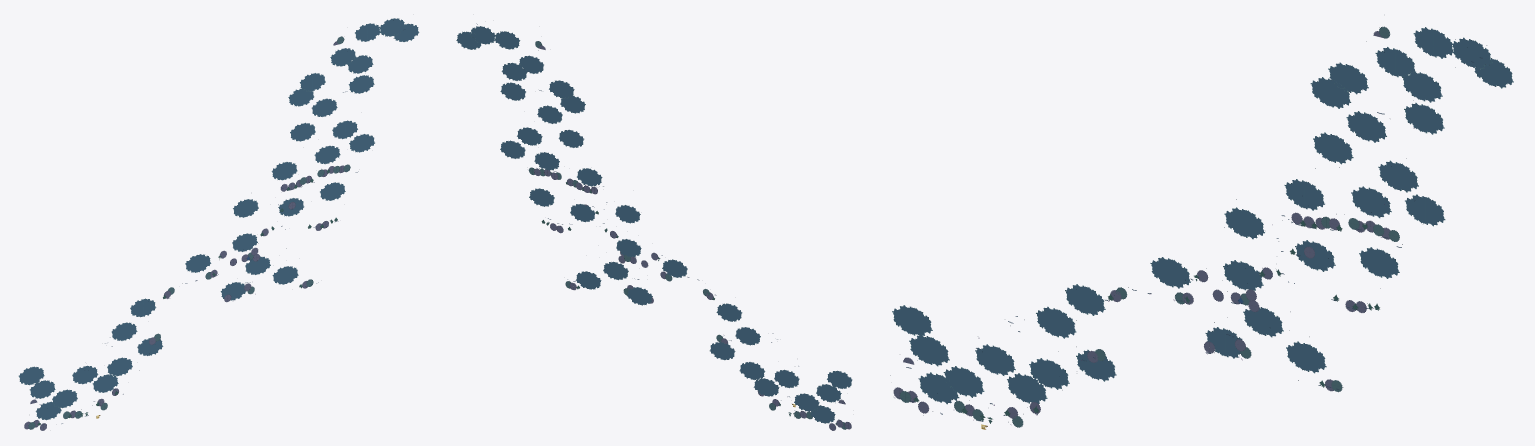
The model's file is star02_bg.glb.
The picture shows the model from 3 angles, left to right: view 1: azimuth 30°, elevation 25°; view 2: azimuth 150°, elevation 25°; view 3: azimuth 330°, elevation 25°; orthographic projection. The views are drawn at different scales.
Visible parts, largest first — view 1: star02_bg; view 2: star02_bg; view 3: star02_bg.
Boxes of the visible parts, x1,y1,x2,y2 form: star02_bg: [18, 18, 419, 430]; star02_bg: [456, 23, 852, 430]; star02_bg: [890, 26, 1513, 429].
Bounding box in the file's own units: 5552 × 4320 × 239.
Materials: 9 (9 with a texture image).
